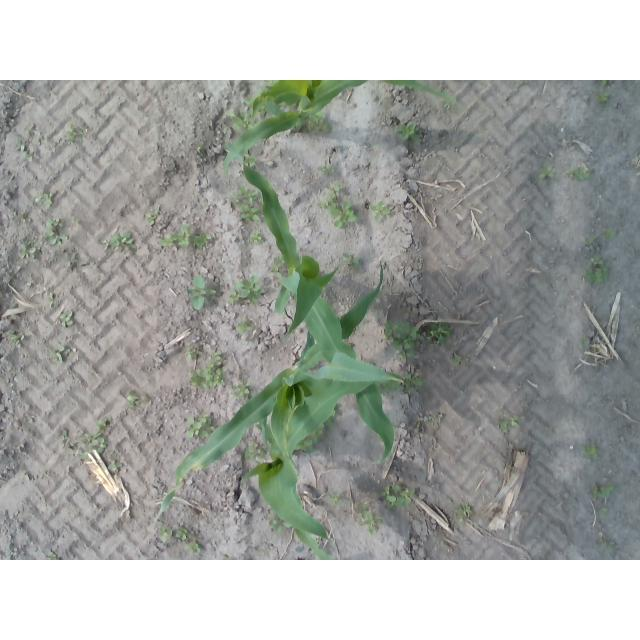Maize: (153, 261, 383, 528), (241, 159, 395, 465), (225, 81, 458, 184), (244, 384, 376, 561)
Weeds: (192, 356, 226, 389), (190, 274, 218, 310), (227, 276, 259, 304), (380, 484, 415, 506), (331, 206, 357, 228), (182, 417, 211, 435), (584, 228, 616, 244), (108, 233, 135, 251), (358, 508, 378, 532), (402, 323, 419, 349), (431, 325, 453, 345), (47, 226, 69, 243), (588, 266, 610, 283), (35, 190, 53, 210), (396, 121, 416, 139), (236, 186, 257, 203), (167, 525, 190, 540), (404, 373, 423, 391), (369, 203, 389, 220), (241, 206, 260, 223), (52, 347, 72, 363), (314, 115, 331, 133), (500, 415, 517, 433), (592, 485, 612, 500), (177, 227, 191, 248), (19, 245, 38, 259), (233, 116, 250, 131), (61, 312, 76, 329), (246, 439, 258, 459), (320, 195, 337, 209), (344, 254, 362, 267), (383, 321, 398, 336), (65, 127, 80, 141), (91, 439, 105, 454), (59, 430, 70, 448), (237, 321, 251, 335), (234, 382, 249, 395), (538, 167, 554, 179), (318, 165, 335, 176), (582, 445, 599, 456), (456, 505, 473, 516), (330, 491, 343, 505), (569, 171, 589, 180), (108, 462, 125, 472), (196, 233, 208, 247), (185, 544, 200, 555), (126, 394, 144, 403), (186, 348, 199, 360), (45, 550, 59, 560), (11, 333, 26, 342), (147, 214, 158, 226), (267, 261, 281, 270), (601, 540, 615, 549), (26, 125, 37, 136), (18, 141, 30, 151), (162, 235, 174, 245), (452, 354, 462, 366), (99, 419, 111, 429), (598, 81, 615, 88), (328, 182, 341, 191), (52, 220, 64, 229), (251, 234, 262, 243), (593, 258, 603, 267), (49, 293, 55, 307), (582, 338, 591, 347), (599, 93, 609, 101)
